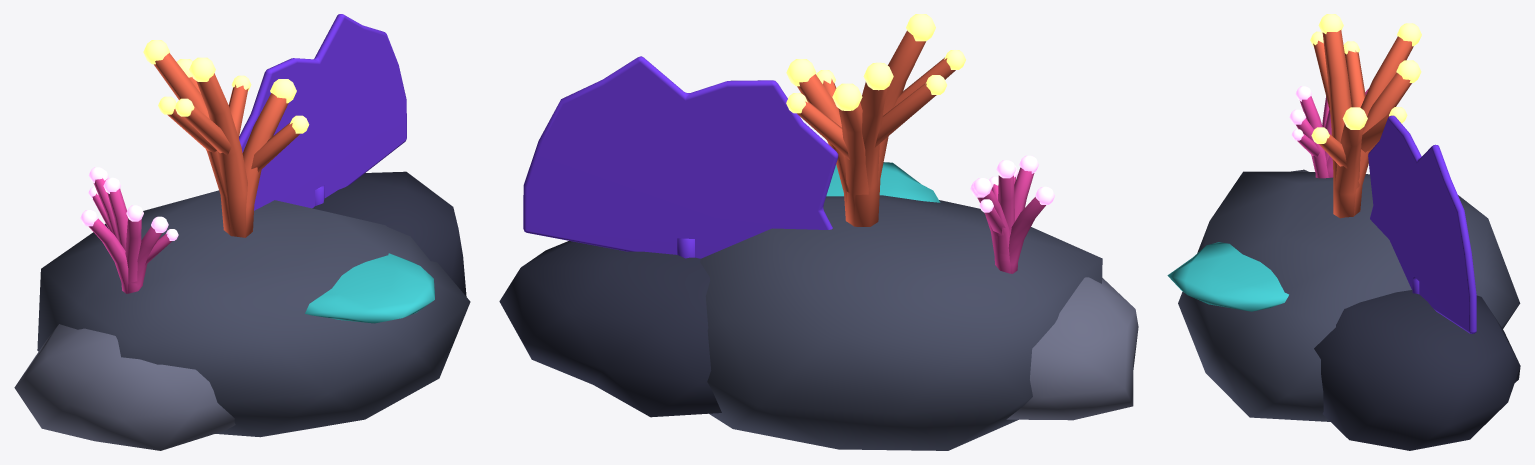
Rendered from aqua_reef_a.glb.
3 renders of one model, left to right at view 1: azimuth 30°, elevation 25°; view 2: azimuth 150°, elevation 25°; view 3: azimuth 270°, elevation 25°, orthographic. The views are drawn at different scales.
Visible parts, largest first — view 1: ReefA; view 2: ReefA; view 3: ReefA.
Part boxes in pixels (x1,y1,x2,y2): ReefA: (14,14,470,450); ReefA: (499,14,1138,450); ReefA: (1167,14,1520,450).
Size of the model in its own units: 2.55 by 1.65 by 1.67.
